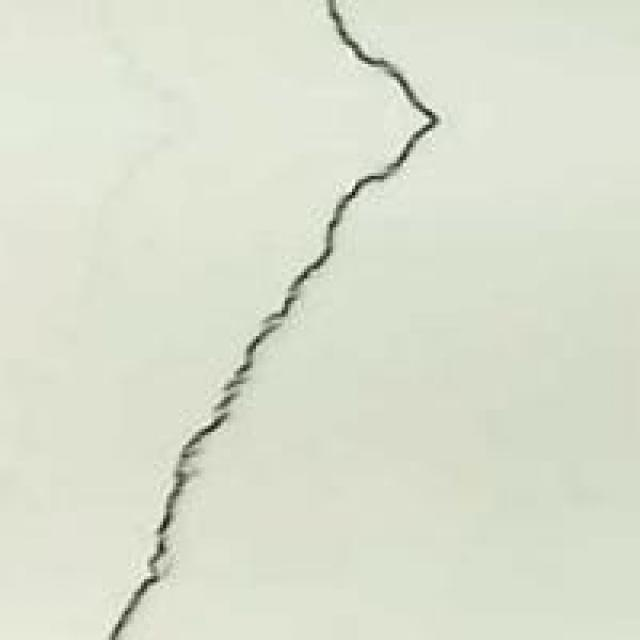crack: (87, 0, 436, 637)
